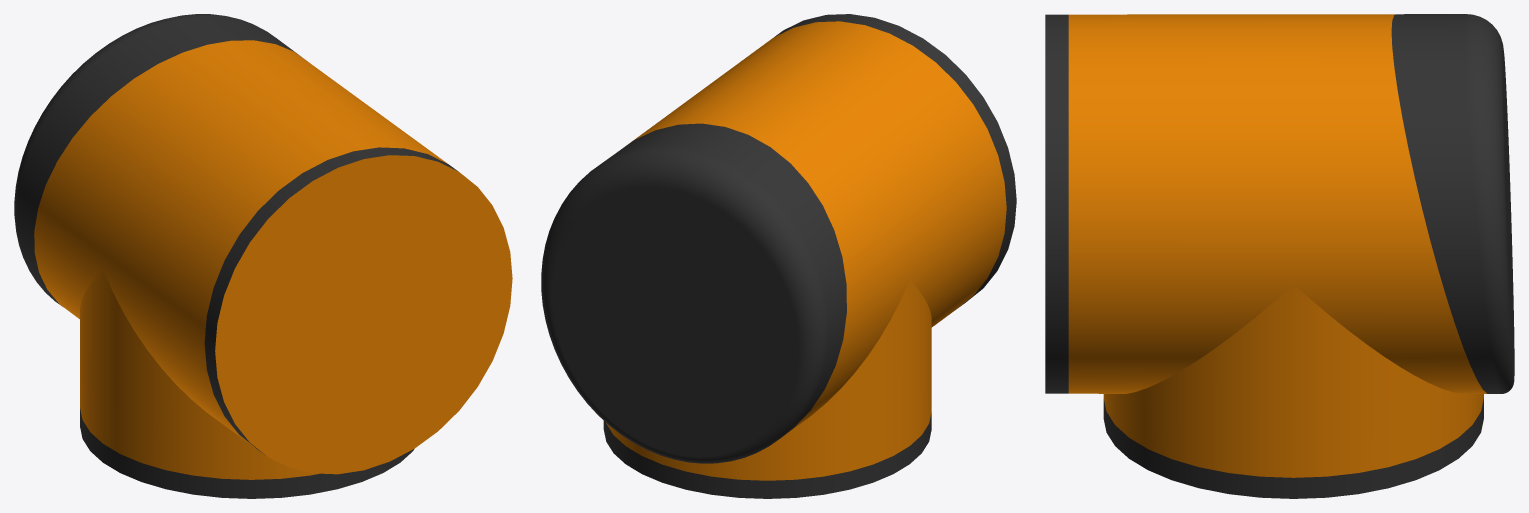
3 renders of one model, left to right at view 1: azimuth 30°, elevation 25°; view 2: azimuth 150°, elevation 25°; view 3: azimuth 270°, elevation 25°, orthographic. The views are drawn at different scales.
Parts seen in each view (by area): view 1: FBXASC194FBXASC183FBXASC195FBXASC150FBXASC194FBXASC184FBXASC; view 2: FBXASC194FBXASC183FBXASC195FBXASC150FBXASC194FBXASC184FBXASC; view 3: FBXASC194FBXASC183FBXASC195FBXASC150FBXASC194FBXASC184FBXASC.
Part boxes in pixels (x1,y1,x2,y2): FBXASC194FBXASC183FBXASC195FBXASC150FBXASC194FBXASC184FBXASC: [14, 14, 512, 498]; FBXASC194FBXASC183FBXASC195FBXASC150FBXASC194FBXASC184FBXASC: [541, 14, 1016, 498]; FBXASC194FBXASC183FBXASC195FBXASC150FBXASC194FBXASC184FBXASC: [1045, 14, 1514, 498].
Size of the model in its own units: 0.098 by 0.1209 by 0.11.
